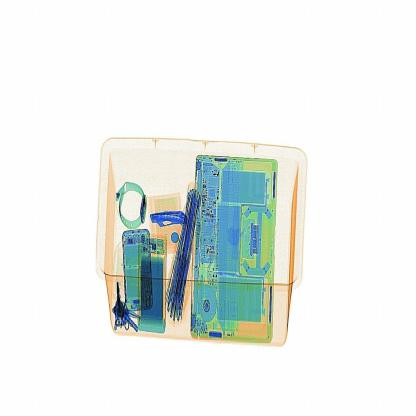knife: (148, 204, 195, 236)
